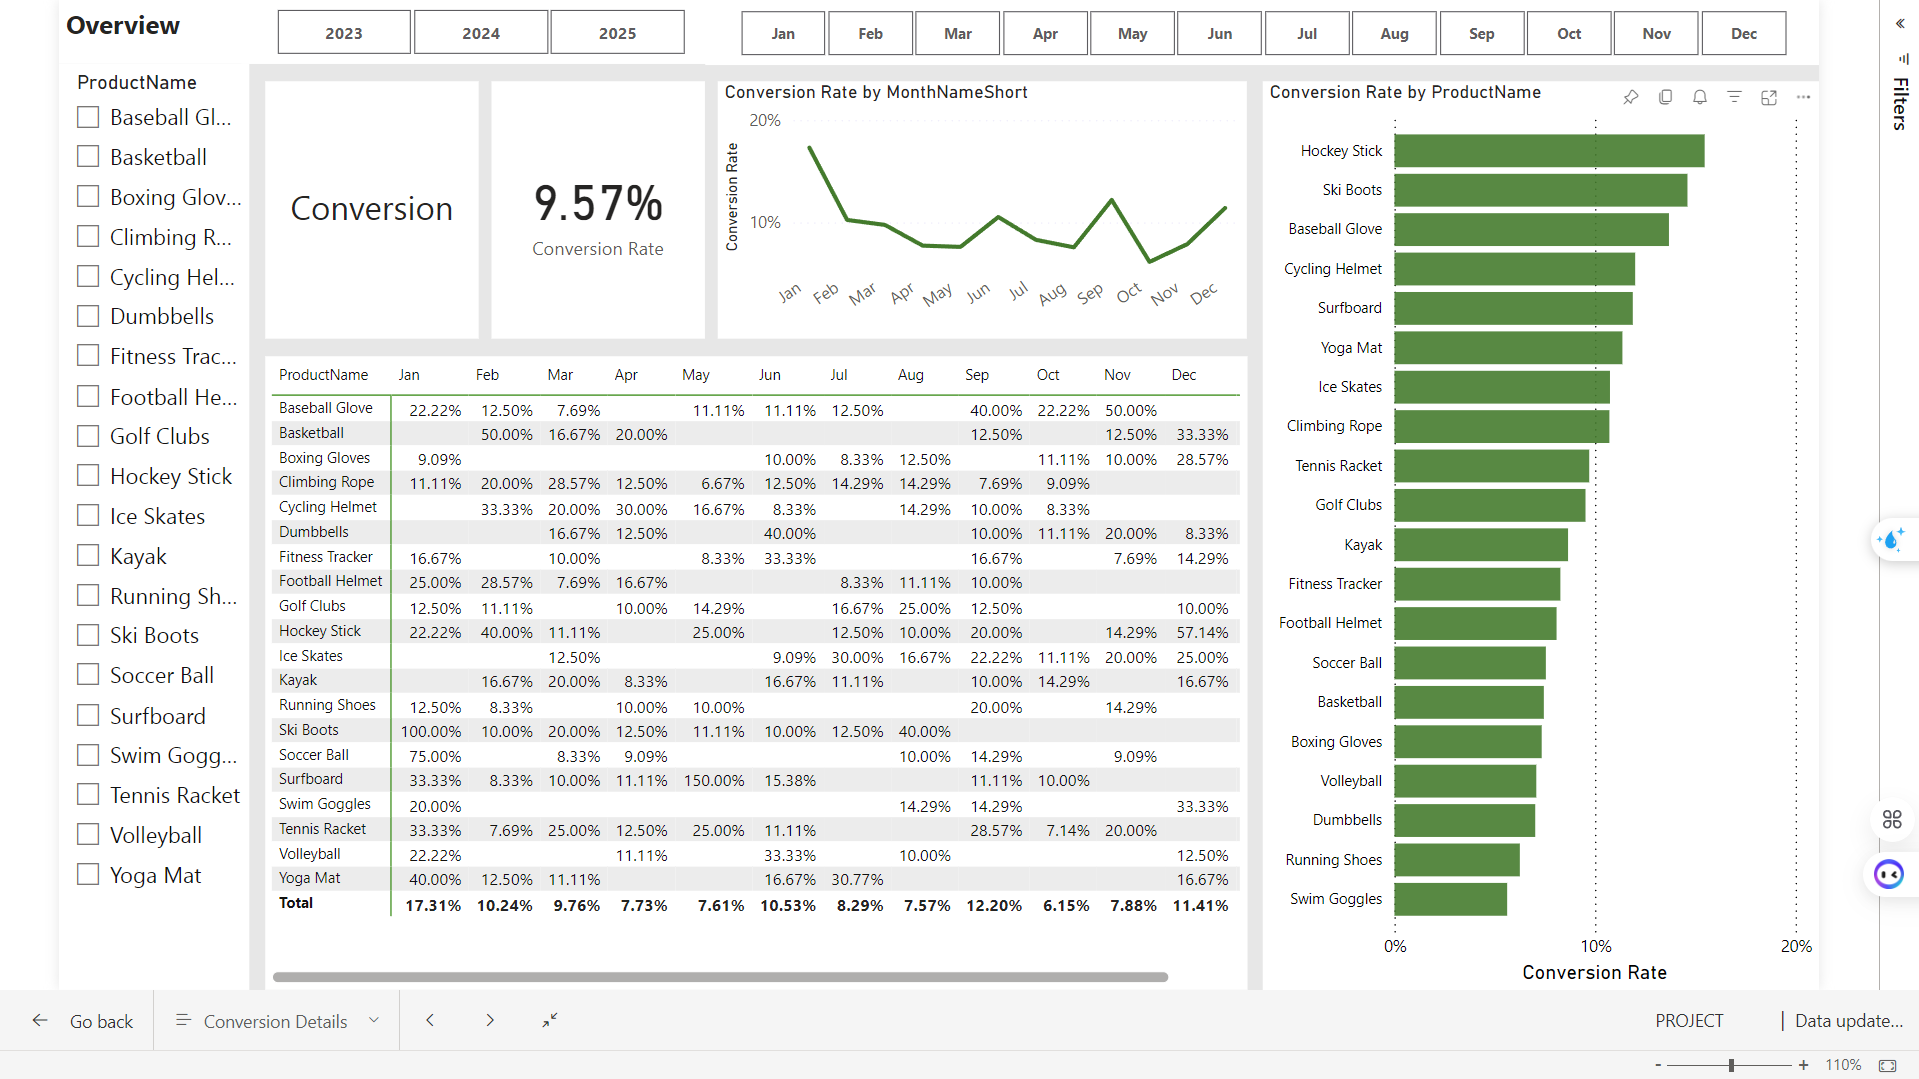

What the dashboard file says about the page in this screenshot:
{"tool":"powerbi","page":{"name":"Conversion Details","canvas":[1280,720],"ordinal":1},"visuals":[{"type":"textbox","box":[0,0,1280.3,46.5],"z":0},{"type":"slicer","fields":{"Values":["dim_product.ProductName"]},"box":[0,46.5,138.1,673.3],"z":1000},{"type":"textbox","box":[150.4,58.7,155.3,187.1],"z":2000},{"type":"card","fields":{"Values":["Calculations.Conversion Rate"]},"box":[314.3,58.7,155.3,187.1],"z":3000},{"type":"slicer","fields":{"Values":["Calender.Year"]},"box":[132.8,0,346.6,46.5],"z":4000},{"type":"slicer","fields":{"Values":["Calender.MonthNameShort"]},"box":[470.1,1.3,810.1,46.5],"z":5000},{"type":"lineChart","fields":{"Y":["Calculations.Conversion Rate"],"Category":["Calender.MonthNameShort"]},"box":[479.4,58.7,385.2,187.1],"z":6000},{"type":"clusteredBarChart","fields":{"Category":["dim_product.ProductName"],"Y":["Calculations.Conversion Rate"]},"box":[875.5,58.7,404.8,661.6],"z":7000},{"type":"pivotTable","fields":{"Rows":["dim_product.ProductName"],"Columns":["Calender.MonthNameShort"],"Values":["Calculations.Conversion Rate"]},"box":[150.4,259.2,714.1,461],"z":8000}]}

Visuals, with their boxes on the page's 1280x720 design canvas (x1, y1, x2, y2). These are canvas units, not pixel positions in the 1919x1079 screenshot, which may show the page scaled, cropped or inside an application window:
textbox: detection(0, 0, 1280, 46)
slicer - dim_product.ProductName: detection(0, 46, 138, 720)
textbox: detection(150, 59, 306, 246)
card - Calculations.Conversion Rate: detection(314, 59, 470, 246)
slicer - Calender.Year: detection(133, 0, 479, 46)
slicer - Calender.MonthNameShort: detection(470, 1, 1280, 48)
lineChart - Calculations.Conversion Rate x Calender.MonthNameShort: detection(479, 59, 865, 246)
clusteredBarChart - dim_product.ProductName x Calculations.Conversion Rate: detection(876, 59, 1280, 720)
pivotTable - dim_product.ProductName x Calender.MonthNameShort: detection(150, 259, 864, 720)
